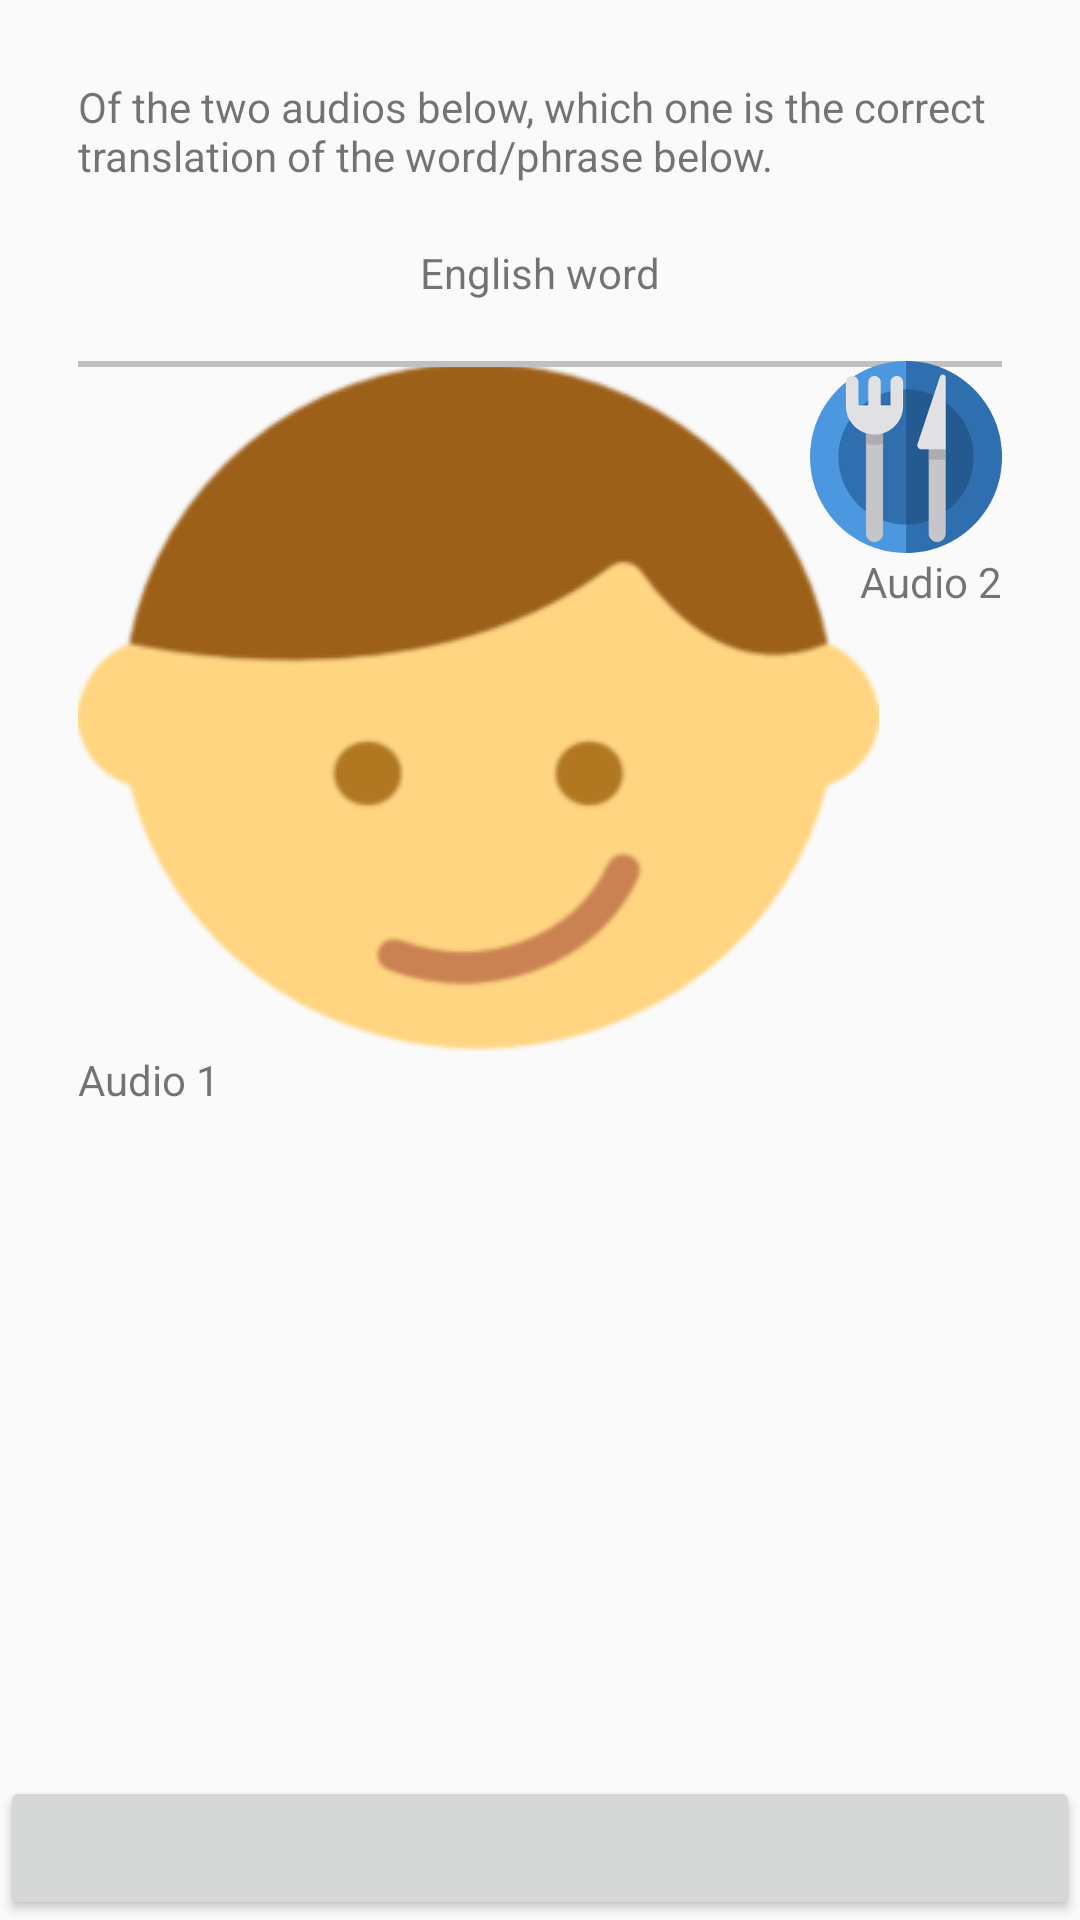

Where to tap for icons on this 1080 × 1920 app screen, as (x,y):
eating: (906,457)
